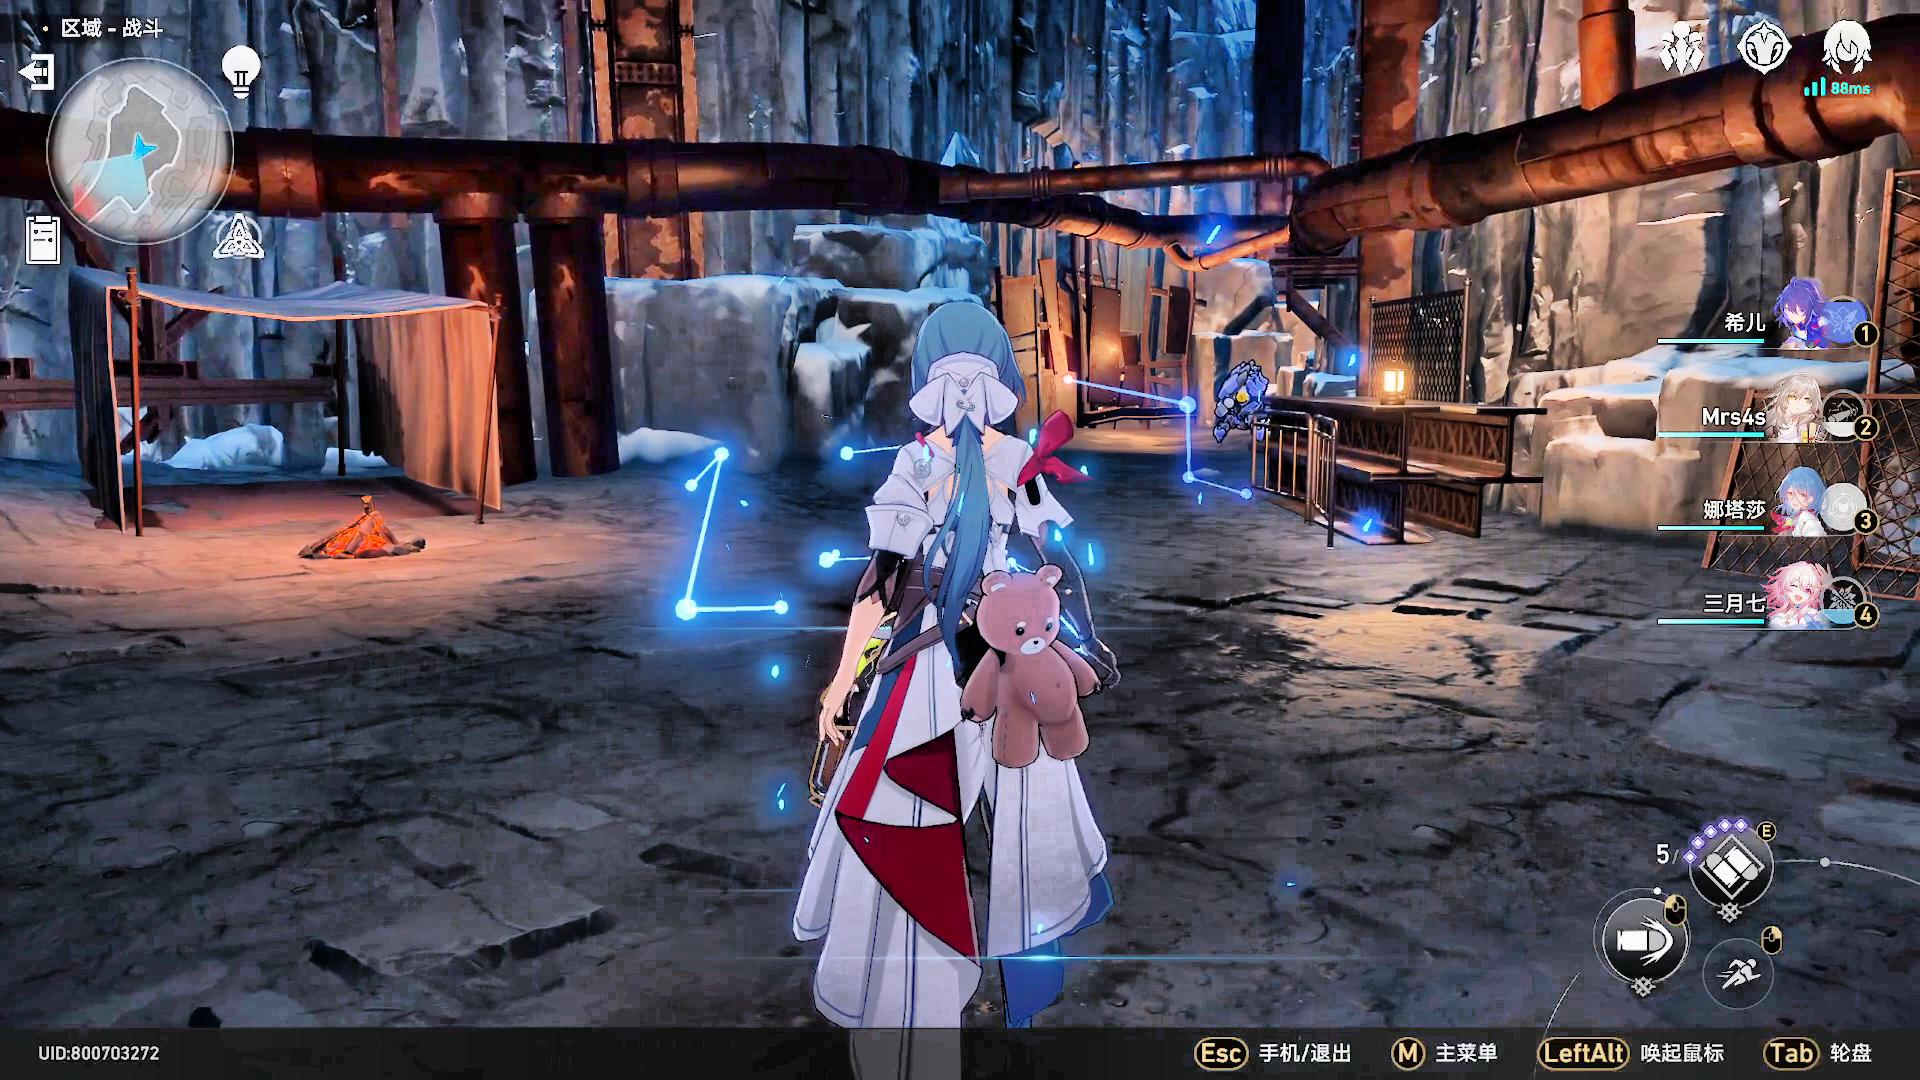Enemy: (1211, 361, 1278, 440)
Self: (808, 301, 1121, 1050)
